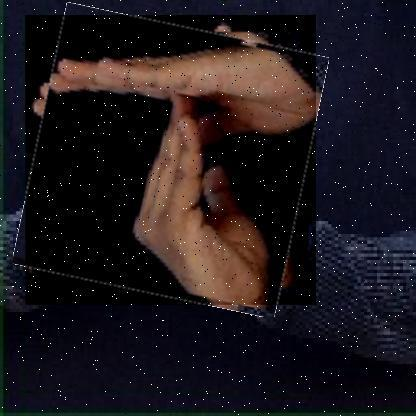Z: (24, 15, 316, 306)
